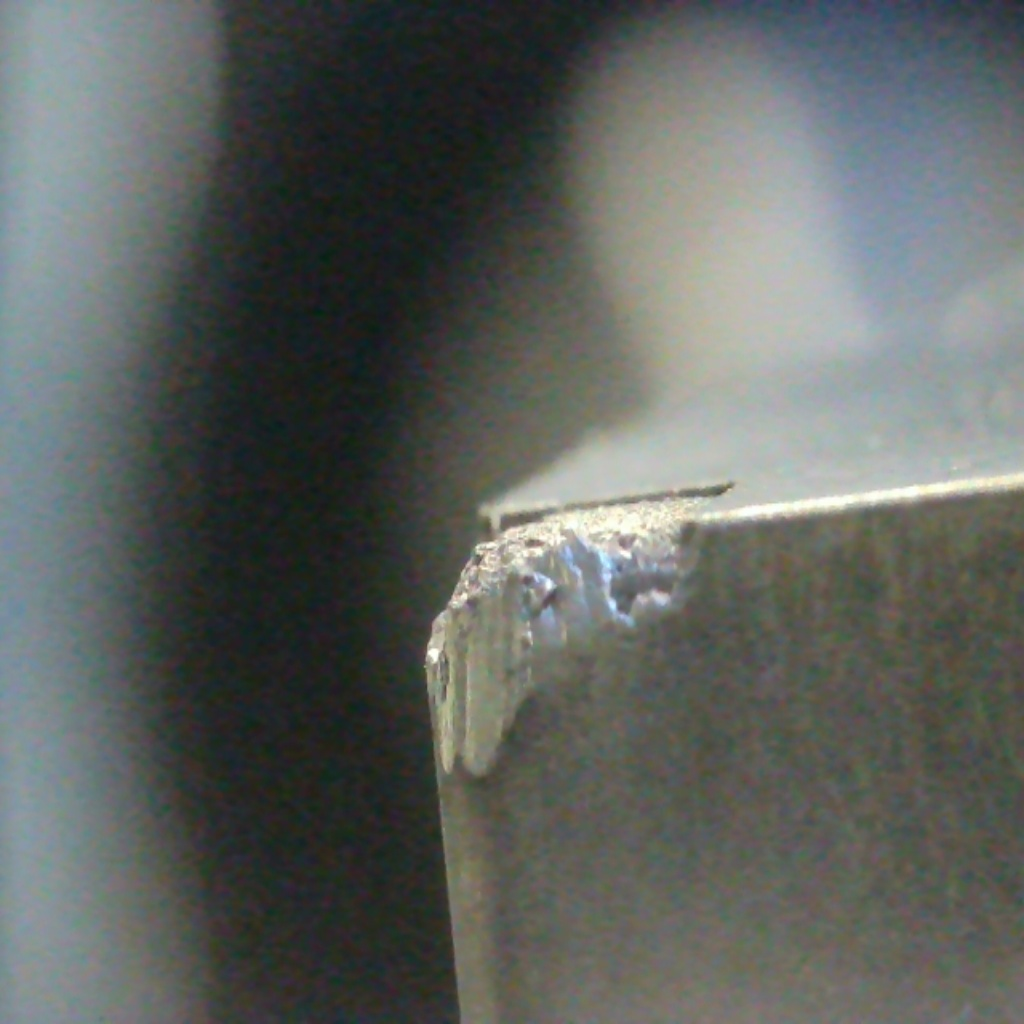flank_wear: (420, 566, 565, 796)
